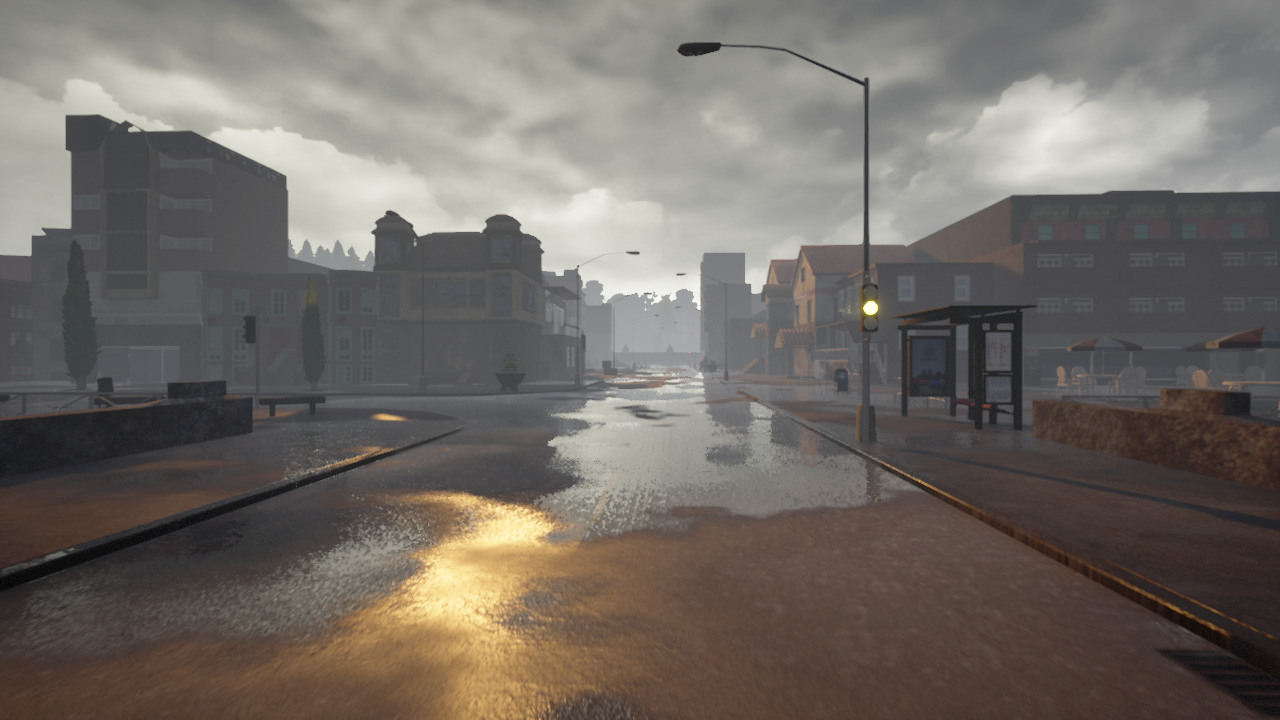yellow: (860, 283, 877, 332)
